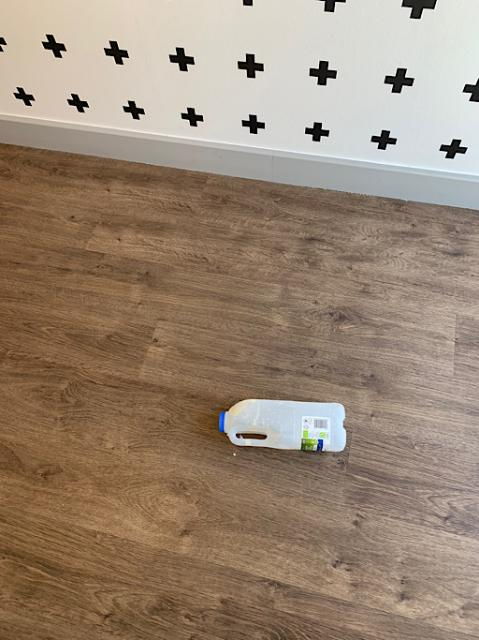plastic: (218, 398, 345, 450)
